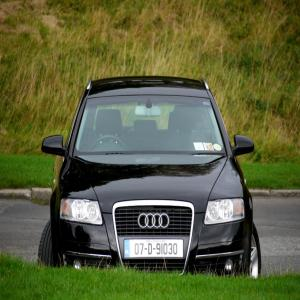Vehicle-registration-plate: (125, 239, 185, 260)
